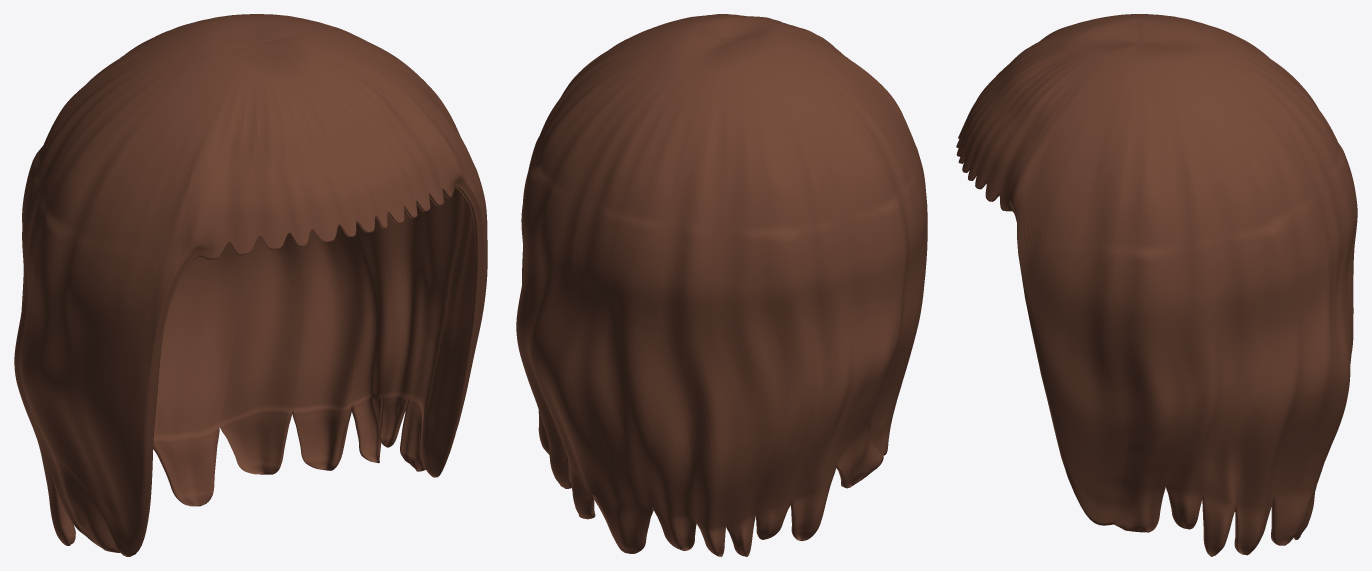
Rendered from long-cowboy.glb.
The picture shows the model from 3 angles, left to right: view 1: azimuth 30°, elevation 25°; view 2: azimuth 150°, elevation 25°; view 3: azimuth 270°, elevation 25°; orthographic projection. The views are drawn at different scales.
Parts seen in each view (by area): view 1: Hair / rounded long fringe; view 2: Hair / rounded long fringe; view 3: Hair / rounded long fringe.
Boxes of the visible parts, x1,y1,x2,y2 form: Hair / rounded long fringe: (14, 14, 487, 556); Hair / rounded long fringe: (516, 14, 927, 556); Hair / rounded long fringe: (956, 14, 1357, 556).
Bounding box in the file's own units: 0.8534 × 1.05 × 0.7801.
